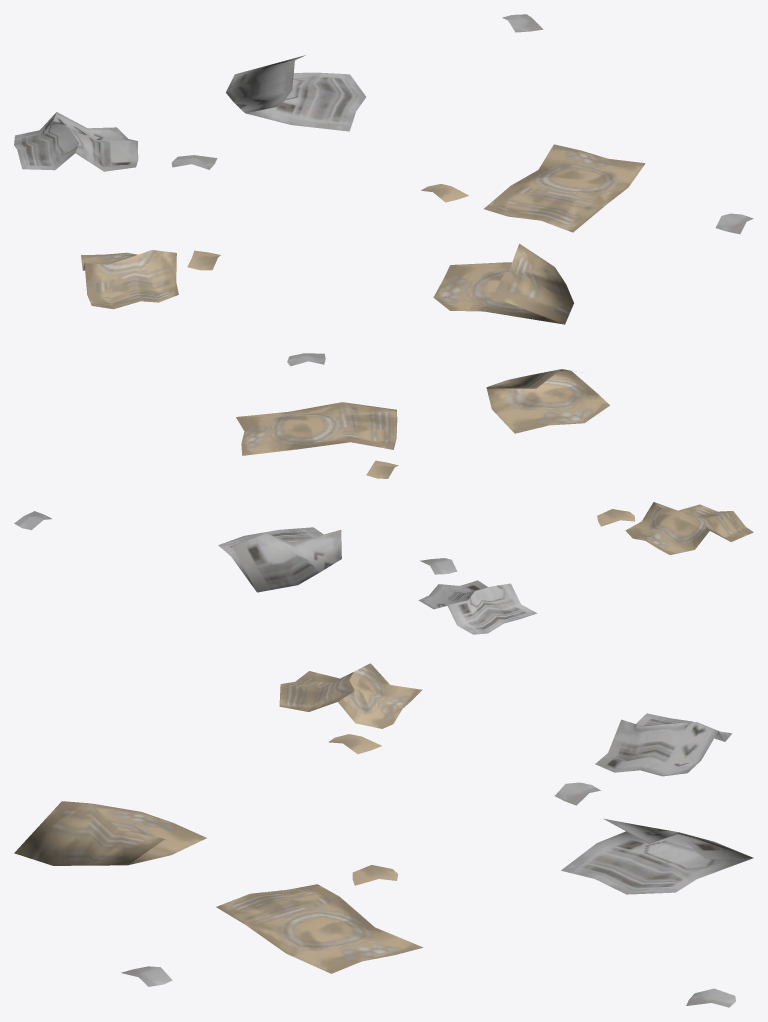
File: SM_Trash_Paper02.glb
3 views of the same model, one above another, from view 1: azimuth 30°, elevation 25°; view 2: azimuth 150°, elevation 25°; view 3: azimuth 270°, elevation 25° (orthographic). The views are drawn at different scales.
Visible parts, largest first — view 1: SM_Trash_Paper02; view 2: SM_Trash_Paper02; view 3: SM_Trash_Paper02.
Boxes of the visible parts, box(x1,y1,x2,y2) form: SM_Trash_Paper02: box(14, 14, 753, 324); SM_Trash_Paper02: box(14, 353, 753, 634); SM_Trash_Paper02: box(14, 663, 753, 1007).
Size of the model in its own units: 0.9335 by 0.048 by 0.8735.
1 material, 1 textured.
